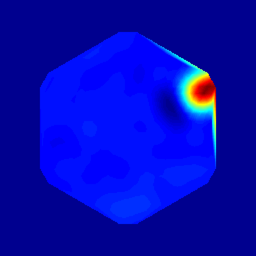ship: (163, 91, 191, 113)
wave: (182, 78, 218, 107)
